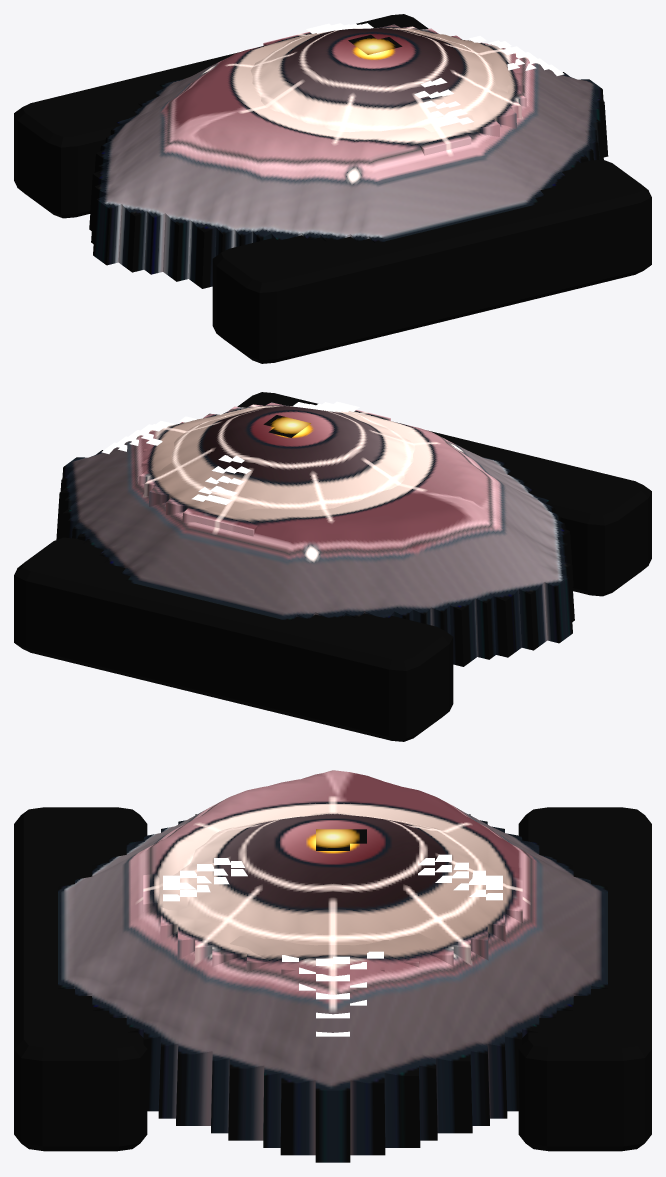
3 renders of one model, top to bottom at view 1: azimuth 30°, elevation 25°; view 2: azimuth 150°, elevation 25°; view 3: azimuth 270°, elevation 25°, orthographic. The views are drawn at different scales.
Parts seen in each view (by area): view 1: chassis-heightfield, locomotion-right, radial-emitters-relief, locomotion-left, semantic-team-surfaces, authored-emissive-surfaces; view 2: chassis-heightfield, locomotion-left, radial-emitters-relief, locomotion-right, semantic-team-surfaces, authored-emissive-surfaces; view 3: chassis-heightfield, radial-emitters-relief, locomotion-left, locomotion-right, semantic-team-surfaces, authored-emissive-surfaces.
Part boxes in pixels (bbox=[...]): chassis-heightfield: bbox=[89, 32, 608, 288]; locomotion-right: bbox=[212, 159, 651, 363]; radial-emitters-relief: bbox=[250, 24, 526, 155]; locomotion-left: bbox=[14, 14, 428, 218]; semantic-team-surfaces: bbox=[306, 23, 564, 126]; authored-emissive-surfaces: bbox=[348, 35, 402, 54]; chassis-heightfield: bbox=[56, 411, 574, 666]; locomotion-left: bbox=[14, 537, 453, 741]; radial-emitters-relief: bbox=[139, 402, 415, 536]; locomotion-right: bbox=[237, 392, 651, 596]; semantic-team-surfaces: bbox=[101, 401, 359, 504]; authored-emissive-surfaces: bbox=[263, 415, 310, 437]; chassis-heightfield: bbox=[58, 770, 607, 1162]; radial-emitters-relief: bbox=[143, 812, 522, 974]; locomotion-left: bbox=[518, 807, 651, 1151]; locomotion-right: bbox=[14, 807, 147, 1151]; semantic-team-surfaces: bbox=[163, 854, 502, 1036]; authored-emissive-surfaces: bbox=[316, 829, 366, 850].
Size of the model in its own units: 0.9 by 0.297 by 0.784.
Materials: 5 (4 with a texture image).
